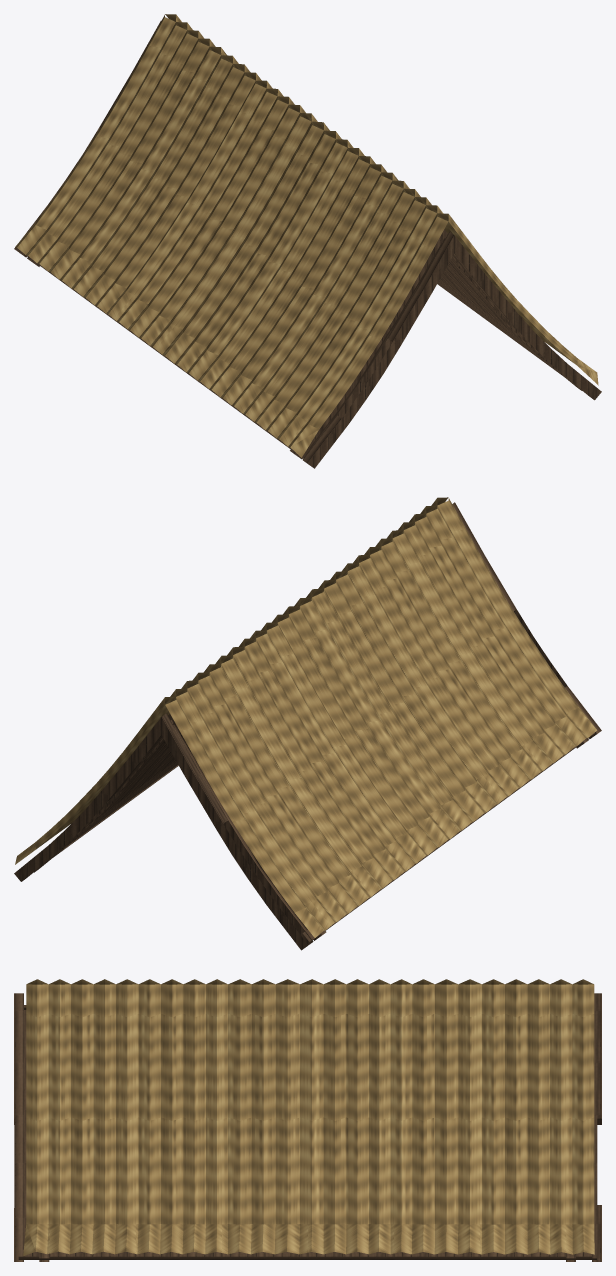
File: Roof_Thatch_6x12.gltf
3 renders of one model, top to bottom at view 1: azimuth 30°, elevation 25°; view 2: azimuth 150°, elevation 25°; view 3: azimuth 270°, elevation 25°, orthographic.
Visible parts, largest first — view 1: Roof_Thatch_6x12; view 2: Roof_Thatch_6x12; view 3: Roof_Thatch_6x12.
Boxes of the visible parts, x1,y1,x2,y2 form: Roof_Thatch_6x12: [14, 14, 601, 468]; Roof_Thatch_6x12: [14, 497, 601, 950]; Roof_Thatch_6x12: [14, 979, 601, 1261].
Bounding box in the file's own units: 8.25 × 5.42 × 13.66.
2 materials, 2 textured.
